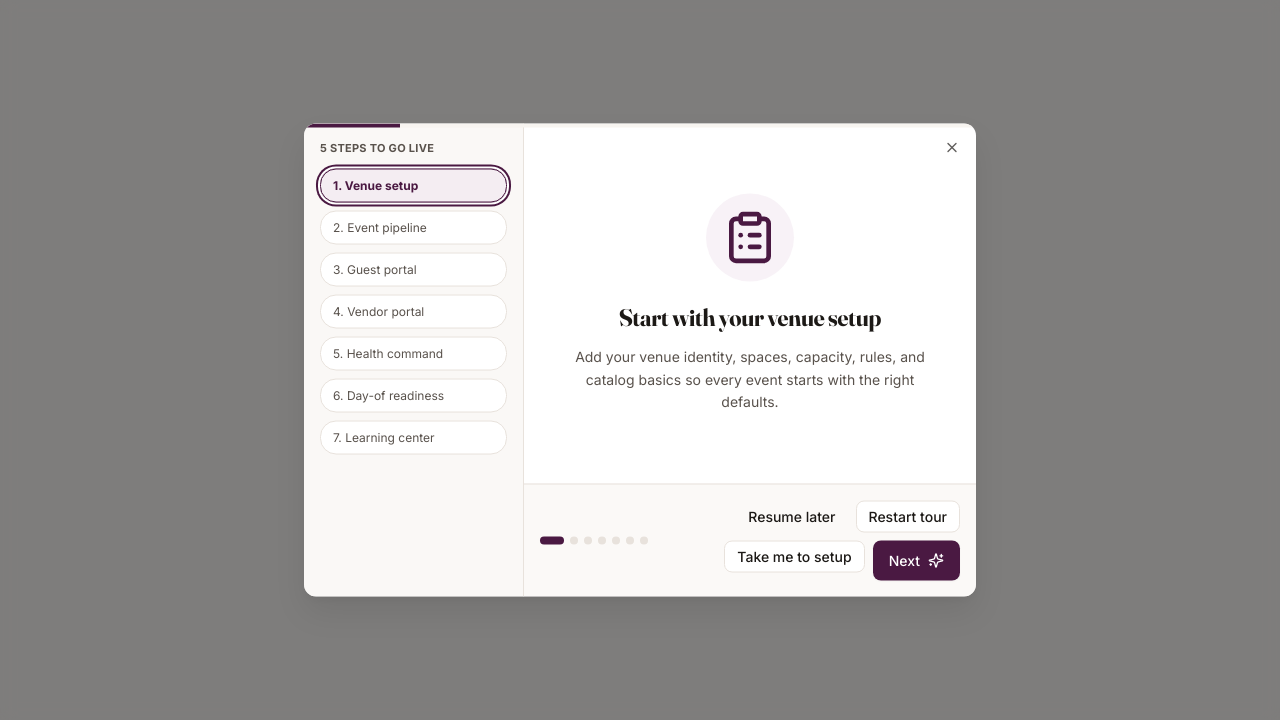
Test: WelcomeModal › renders role-specific owner onboarding and allows navigation
expect the heading "Start with your venue setup" is shown: met, box left=619, top=301, right=881, bottom=333
Click the button "Next".
click(916, 560)  # box left=873, top=540, right=960, bottom=580
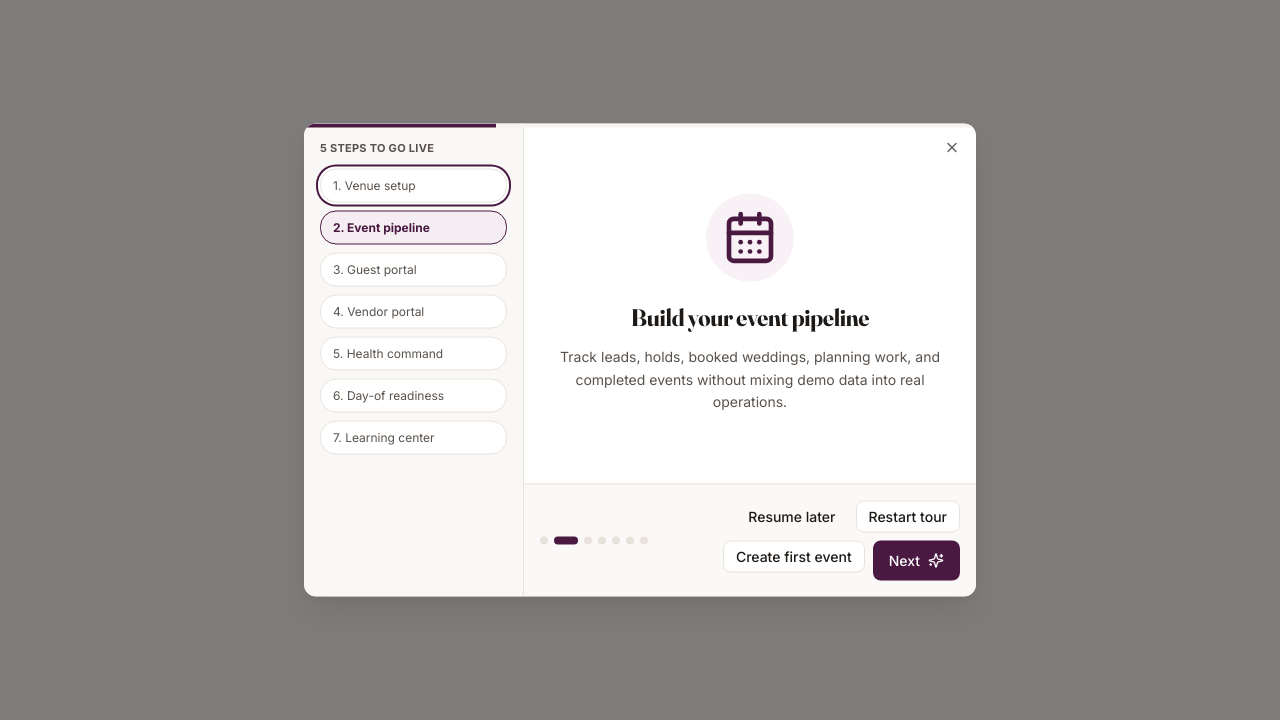
expect the heading "Build your event pipeline" is shown: met, box left=631, top=301, right=869, bottom=333
